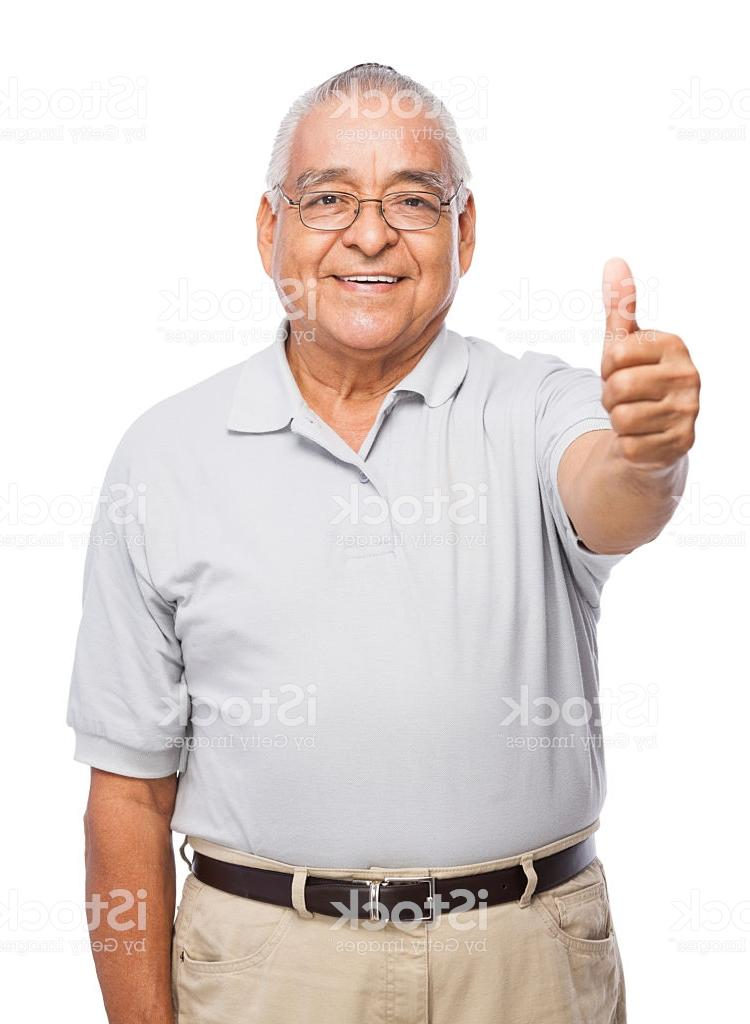thumbsup: (600, 257, 701, 464)
